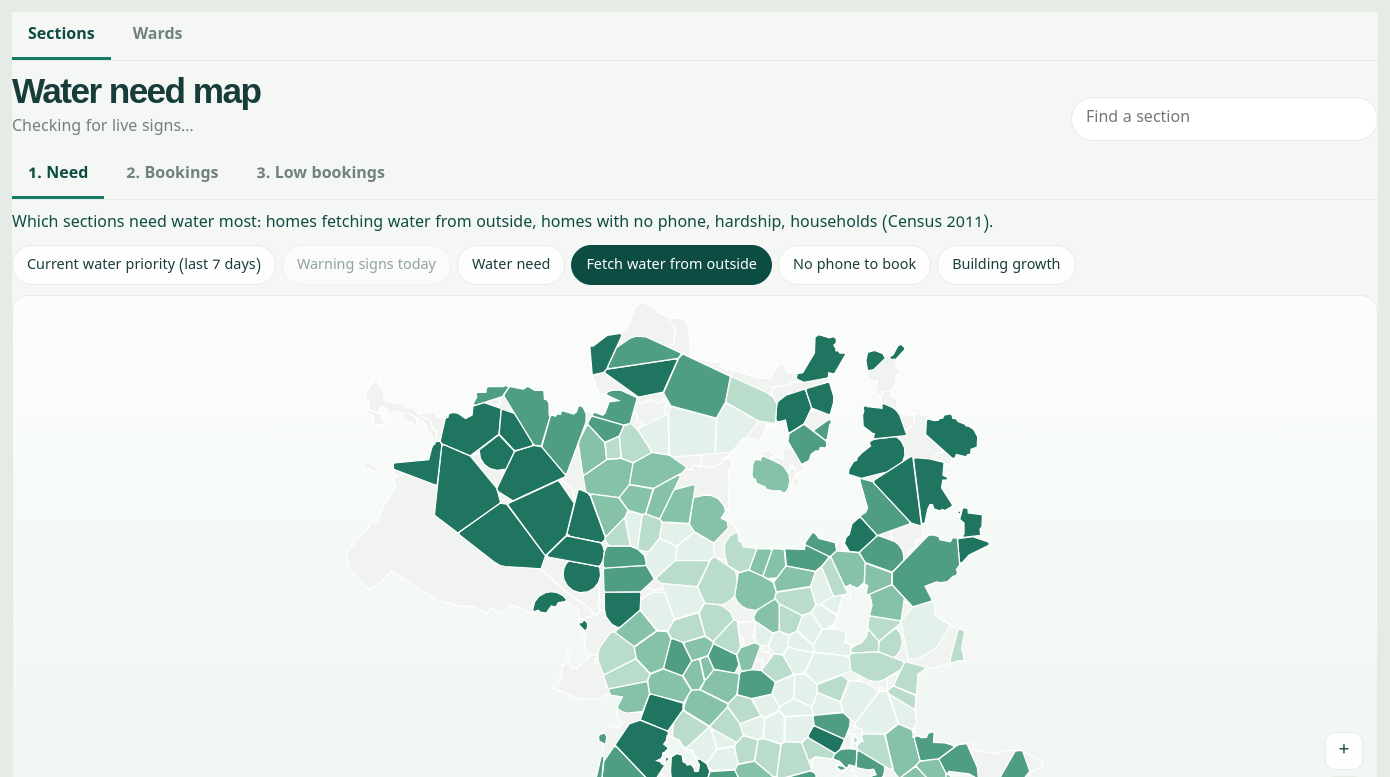
EvidenceExperience › shows live booking concentration on the bookings tab
The image size is (1390, 777).
Click the tab "Wards": (158, 36) [117,12,198,60]
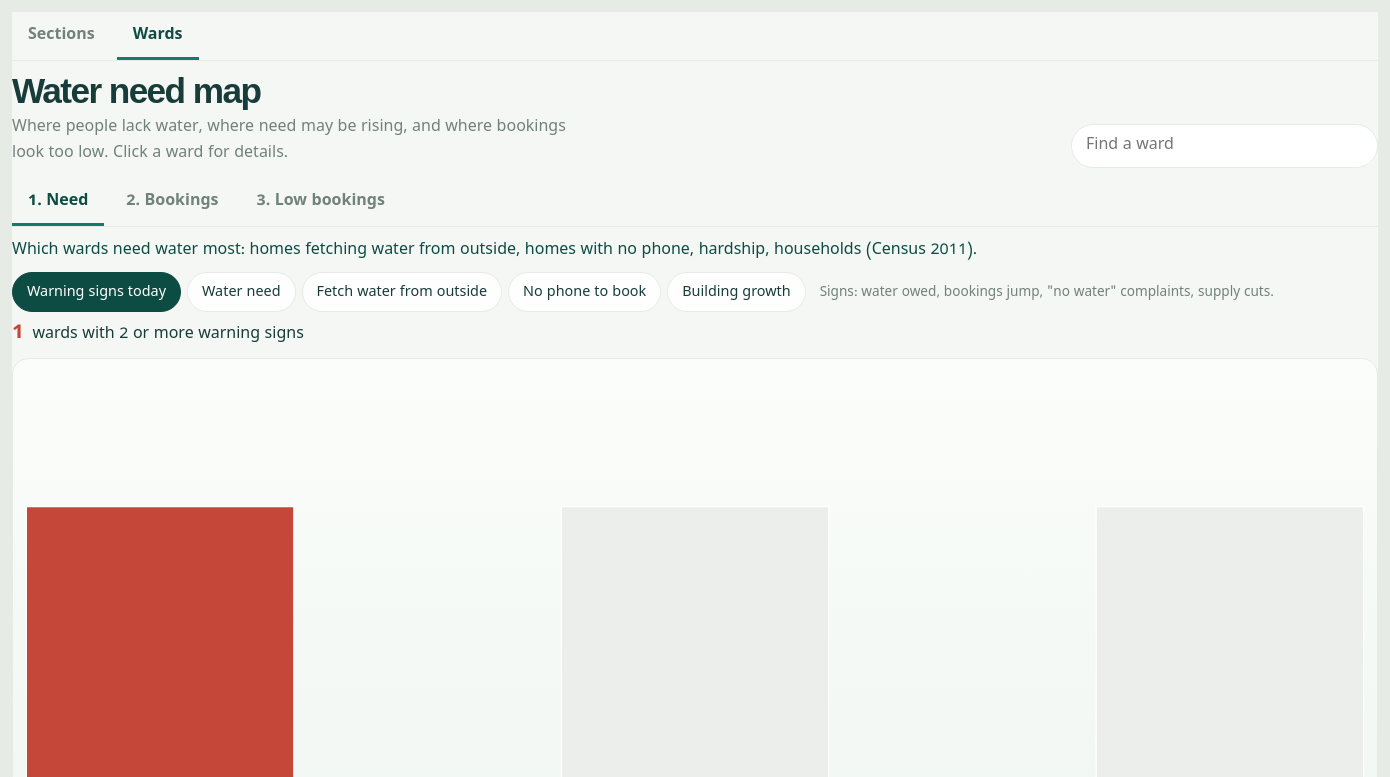
Expected: the text "wards with 2 or more warning signs" is shown, [32,324,304,346]
Click the tab "2. Bookings": (172, 202) [110,178,234,226]
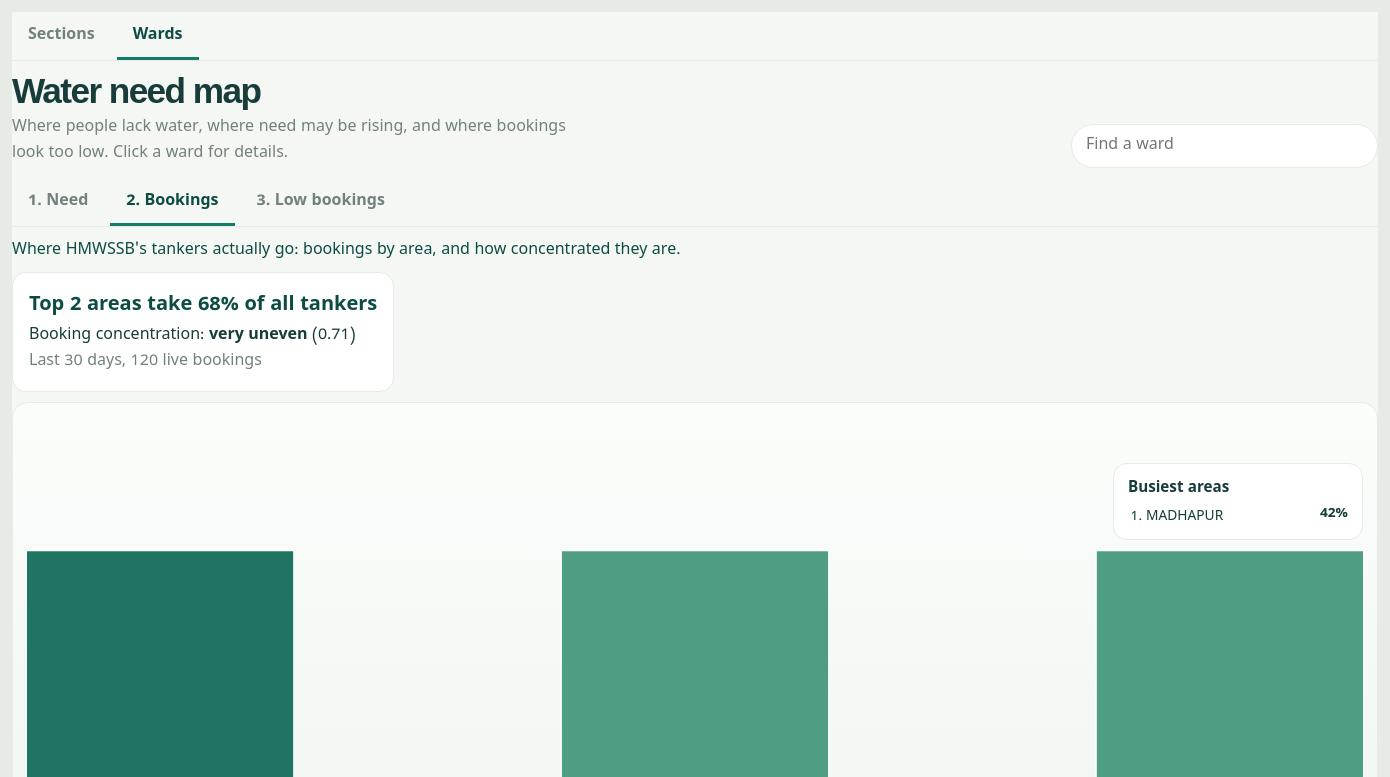
Expected: the text "Top 2 areas take 68% of all tankers" is shown, [29,288,377,320]
Expected: the text "Last 30 days, 120 live bookings" is shown, [29,350,262,372]
Expected: the text "MADHAPUR" is shown, [1146,508,1223,527]
